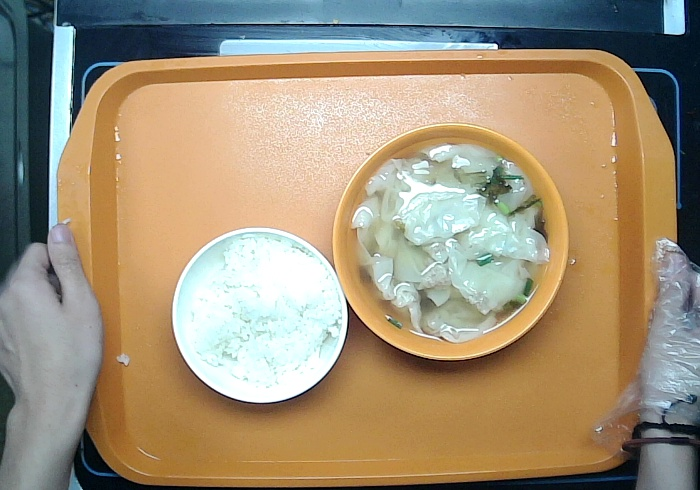NLDX-Fan_Wan: (167, 224, 349, 409)
NLDX-Hun_Tun_Wan: (330, 122, 569, 363)
